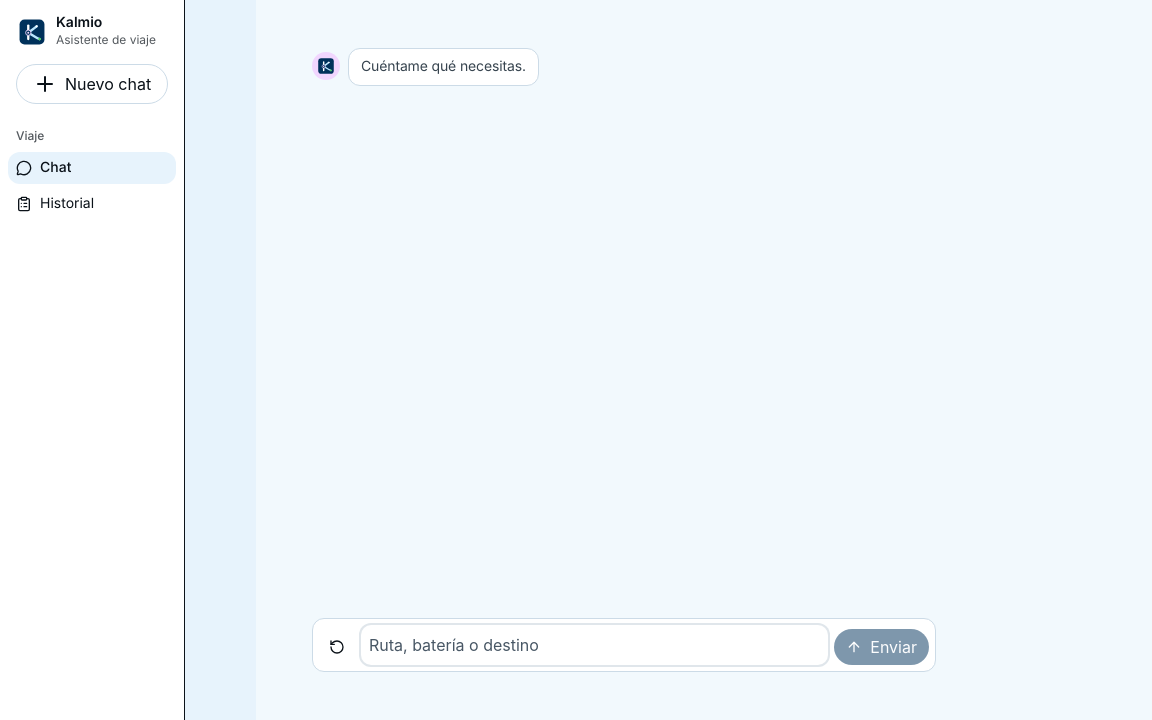
Test: App › does not force the mobile keyboard open after a conversation error
The width and height of the screenshot is (1152, 720).
Type "Madrid a Valencia con 20%" into the text box named "Mensaje para Kalmio".
click(595, 645); type("Madrid a Valencia con 20%")  # box top-left (361, 625), bottom-right (828, 665)
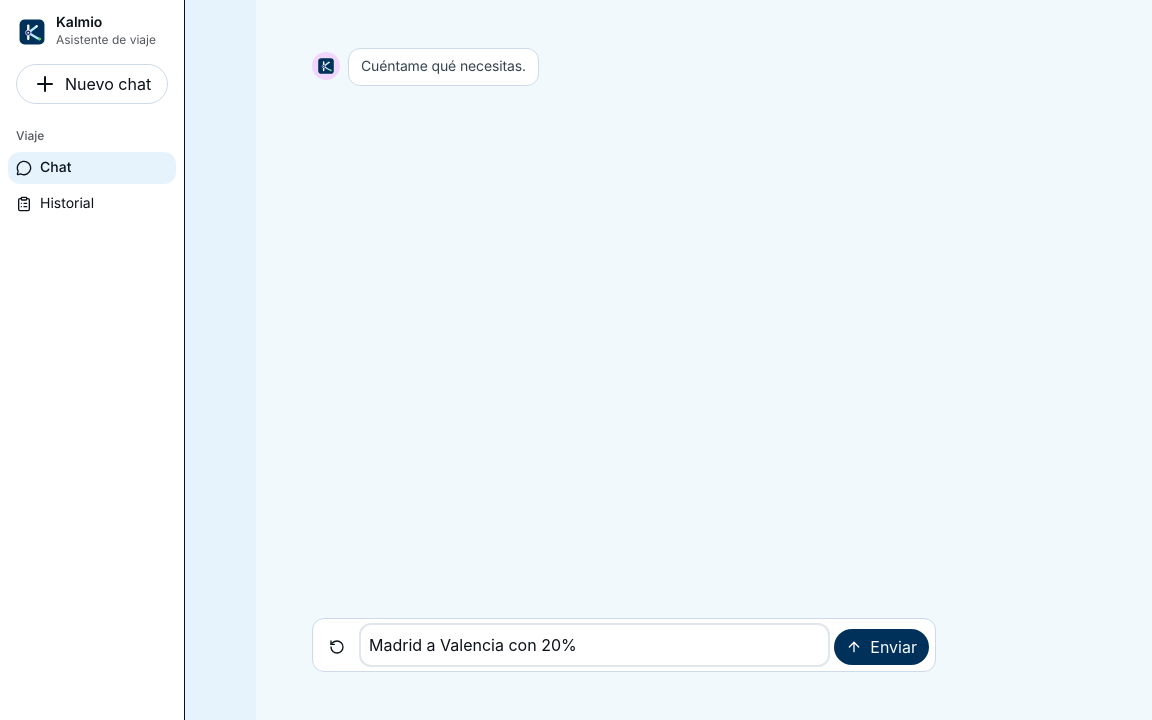
Click the button "Enviar".
click(882, 647)  # box top-left (834, 629), bottom-right (929, 665)
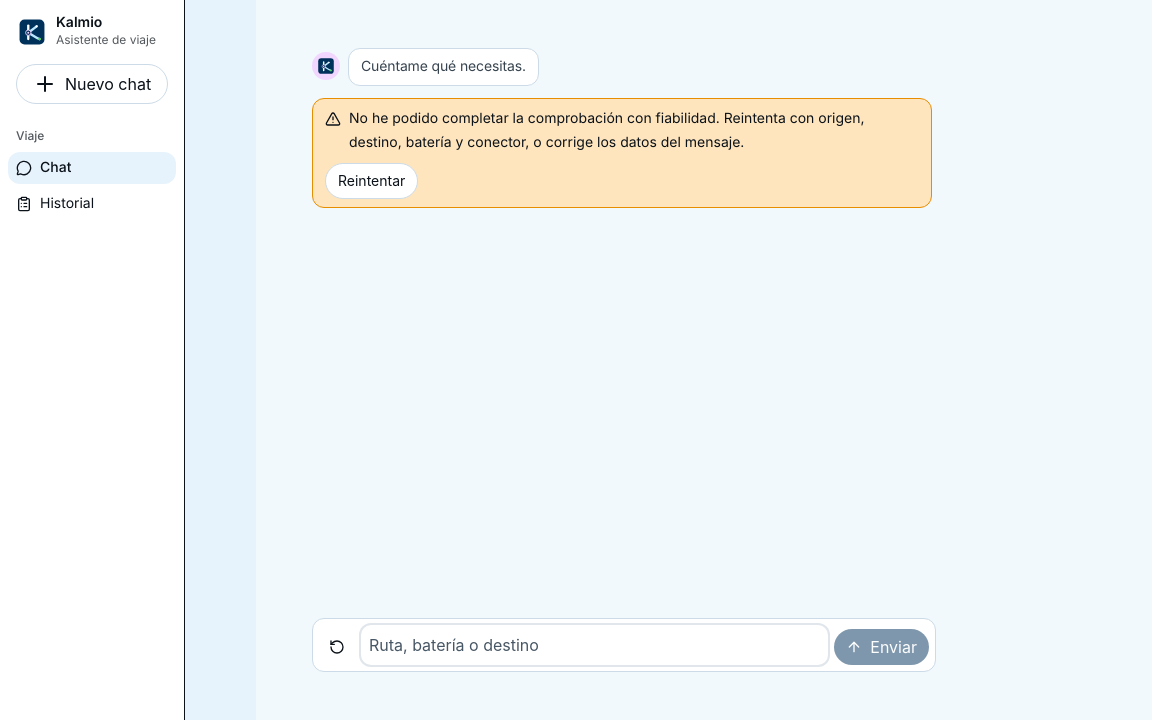
Result: the text "No he podido completar la comprobación" is shown at top-left (349, 110), bottom-right (865, 152)
